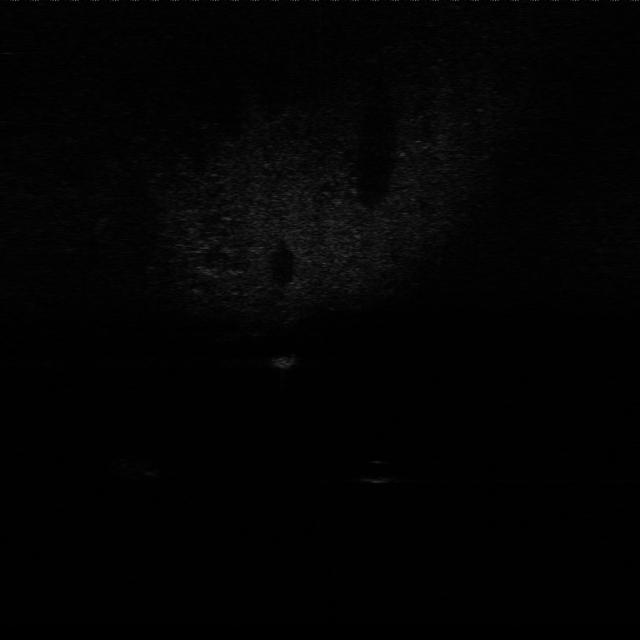ball: (359, 456, 397, 486)
cube: (268, 347, 302, 371)
